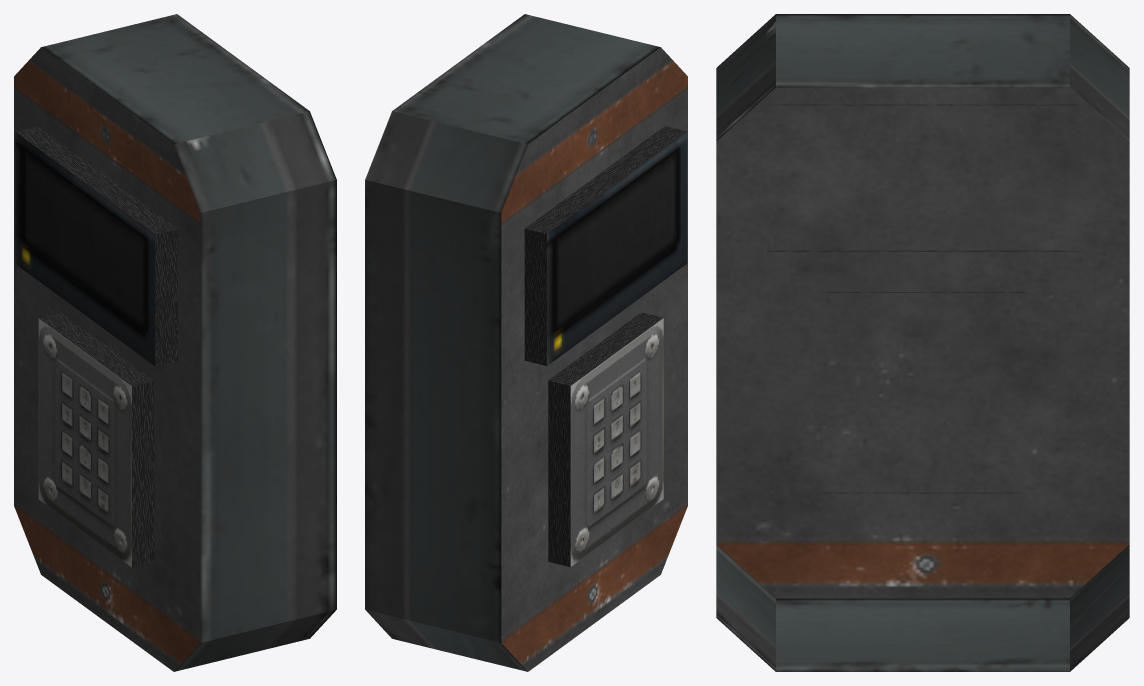
The model's file is WallPanel_04.fbx.
The picture shows the model from 3 angles, left to right: view 1: azimuth 30°, elevation 25°; view 2: azimuth 150°, elevation 25°; view 3: azimuth 270°, elevation 25°; orthographic projection. The views are drawn at different scales.
Parts seen in each view (by area): view 1: WallPanel_04; view 2: WallPanel_04; view 3: WallPanel_04.
Boxes of the visible parts, left/top/right/bottom form: WallPanel_04: left=14, top=14, right=336, bottom=671; WallPanel_04: left=365, top=14, right=687, bottom=671; WallPanel_04: left=716, top=14, right=1129, bottom=671.
Bounding box in the file's own units: 11.35 × 36.09 × 23.15.
